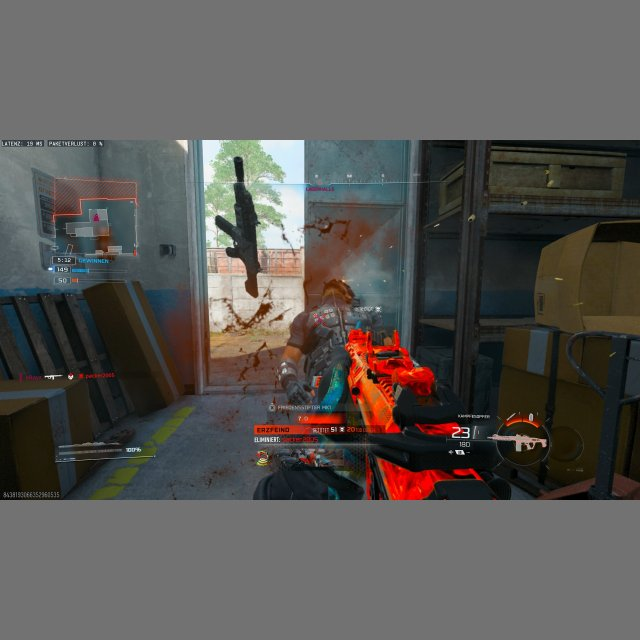head: (320, 278, 356, 306)
player: (278, 277, 386, 411)
